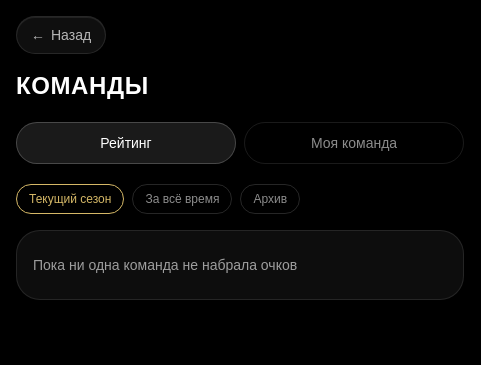
Teams -- Моя команда tab, no team › shows the create-team empty state with a CTA
Click the button "Моя команда": point(354, 143) [244,122,464,164]
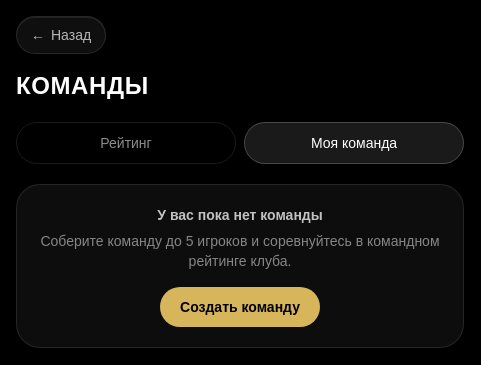
Result: the text "У вас пока нет команды" is shown at [157,207,323,223]
Result: the text "Создать команду" is shown at [160,287,320,327]
